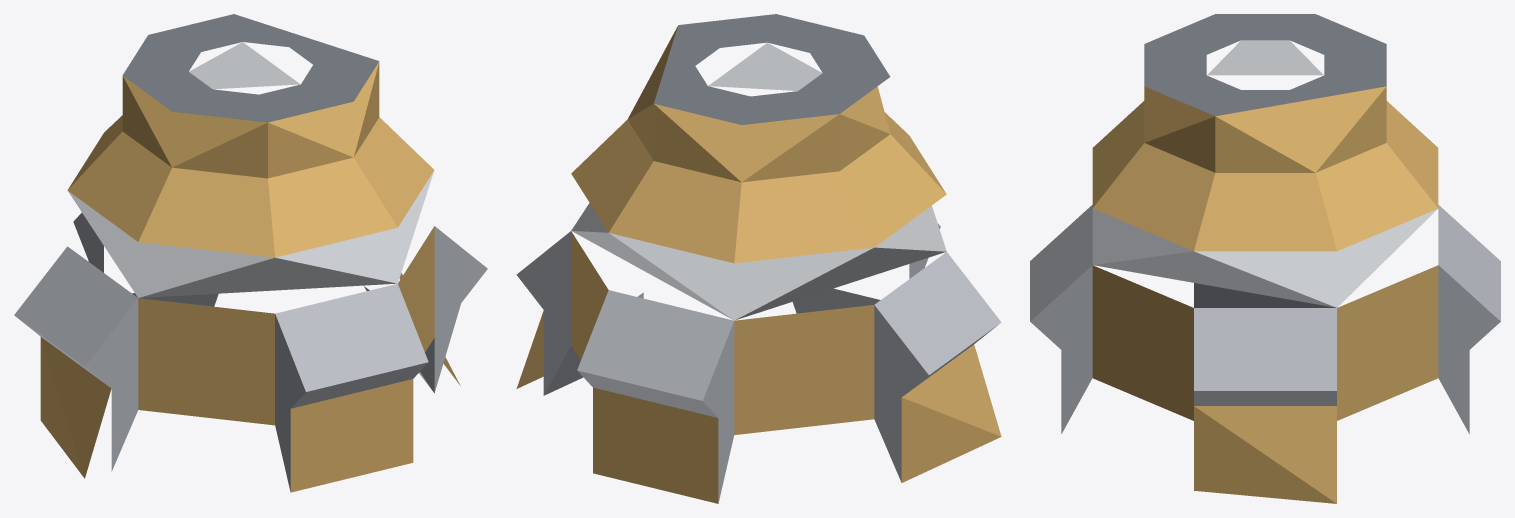
File: machine_barrelLarge.lod.glb
The picture shows the model from 3 angles, left to right: view 1: azimuth 30°, elevation 25°; view 2: azimuth 150°, elevation 25°; view 3: azimuth 270°, elevation 25°; orthographic projection. The views are drawn at different scales.
Parts seen in each view (by area): view 1: machine_barrelLarge; view 2: machine_barrelLarge; view 3: machine_barrelLarge.
Part boxes in pixels (left/top/right/bottom): machine_barrelLarge: left=14, top=14, right=487, bottom=492; machine_barrelLarge: left=516, top=14, right=1001, bottom=503; machine_barrelLarge: left=1030, top=14, right=1500, bottom=503.
Size of the model in its own units: 0.7543 by 0.6 by 0.7543.
